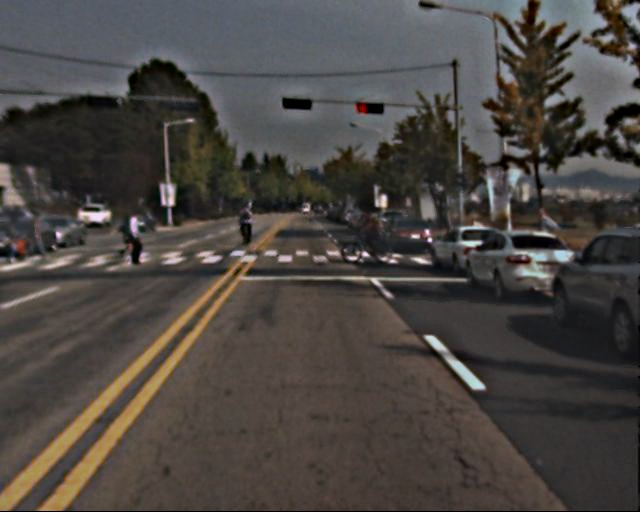person: (5, 213, 46, 263), (127, 208, 150, 265), (365, 205, 388, 261), (121, 213, 139, 256), (238, 205, 255, 247)
